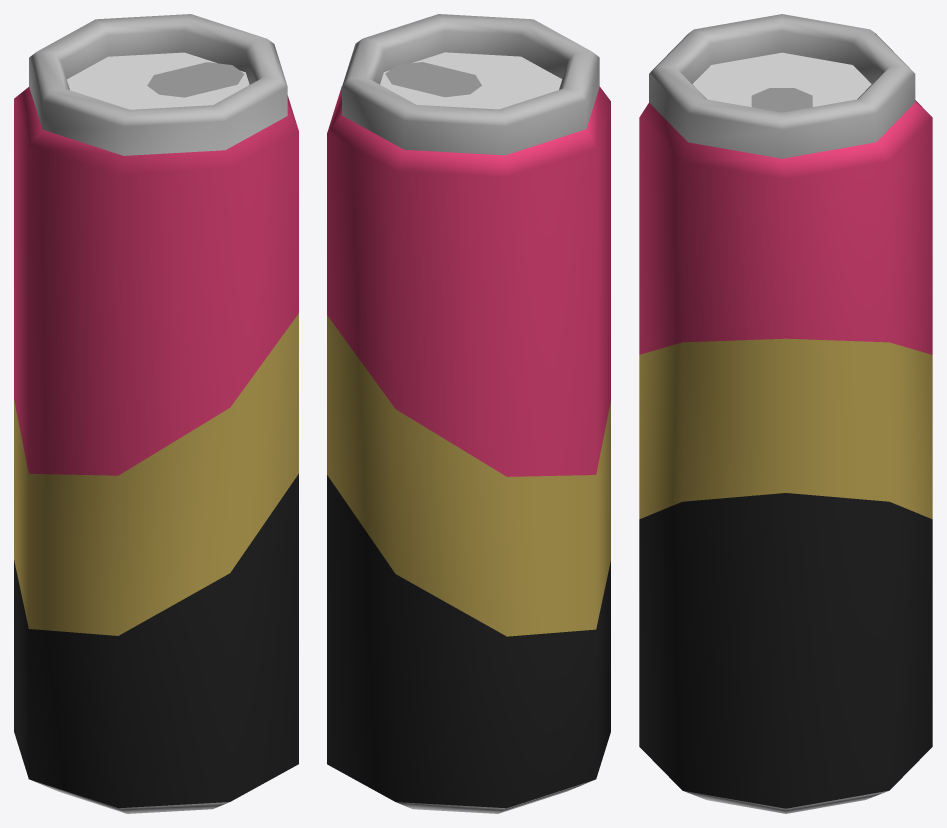
Rendered from prop_080.fbx.
3 renders of one model, left to right at view 1: azimuth 30°, elevation 25°; view 2: azimuth 150°, elevation 25°; view 3: azimuth 270°, elevation 25°, orthographic.
Visible parts, largest first — view 1: prop_080; view 2: prop_080; view 3: prop_080.
Boxes of the visible parts, <box> form: prop_080: <box>14,14,298,813</box>; prop_080: <box>327,14,610,813</box>; prop_080: <box>639,14,932,813</box>.
Size of the model in its own units: 9.43 by 9.43 by 24.86.
